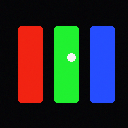0 point: (67, 53, 75, 61)
